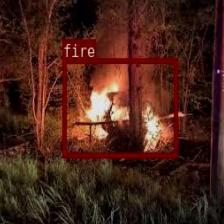fire: (62, 58, 177, 156)
